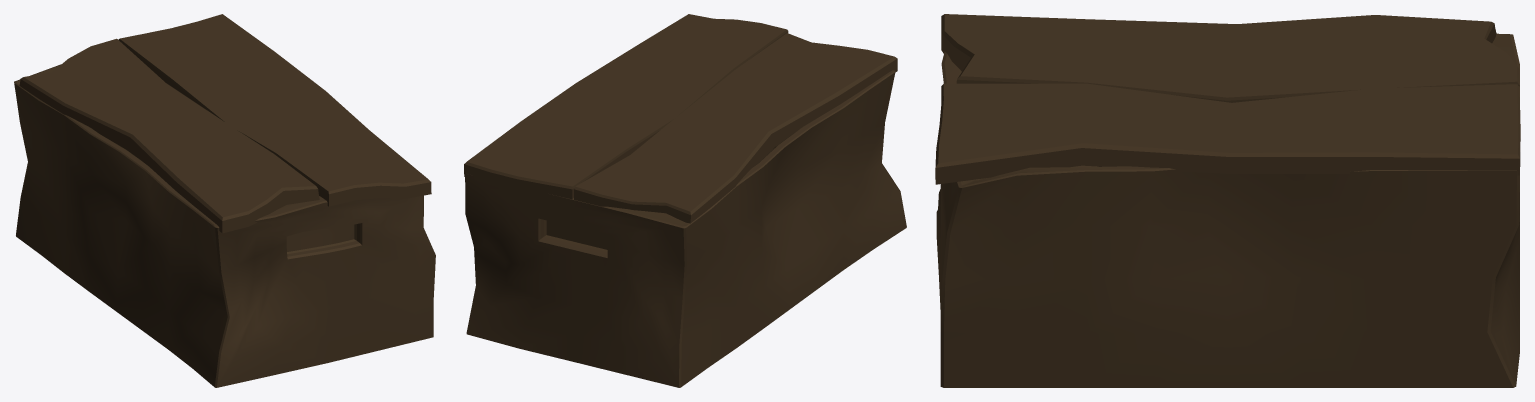
Rendered from Soggy Box.fbx.
3 renders of one model, left to right at view 1: azimuth 30°, elevation 25°; view 2: azimuth 150°, elevation 25°; view 3: azimuth 270°, elevation 25°, orthographic. The views are drawn at different scales.
Parts seen in each view (by area): view 1: Soggy Box, Cube.002, Cube.004; view 2: Soggy Box, Cube.004, Cube.002; view 3: Soggy Box, Cube.002, Cube.004.
Boxes of the visible parts, bbox=[...] form: Soggy Box: bbox=[14, 64, 435, 387]; Cube.002: bbox=[118, 14, 431, 206]; Cube.004: bbox=[19, 38, 319, 233]; Soggy Box: bbox=[465, 70, 906, 387]; Cube.004: bbox=[574, 33, 897, 223]; Cube.002: bbox=[464, 14, 788, 199]; Soggy Box: bbox=[936, 33, 1519, 387]; Cube.002: bbox=[935, 83, 1520, 184]; Cube.004: bbox=[941, 14, 1519, 102].
Bounding box in the file's own units: 210 × 159 × 347.
